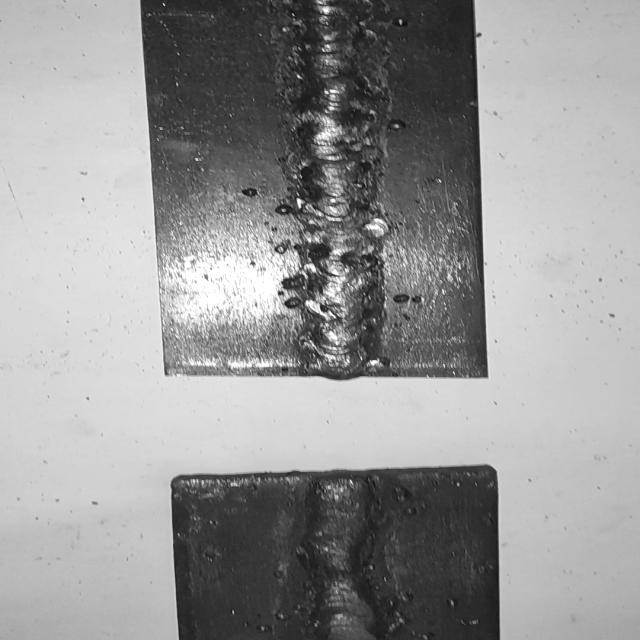Welding Line: (298, 0, 374, 372), (294, 479, 384, 640)
Workpiece: (136, 0, 498, 382), (158, 461, 504, 640)
